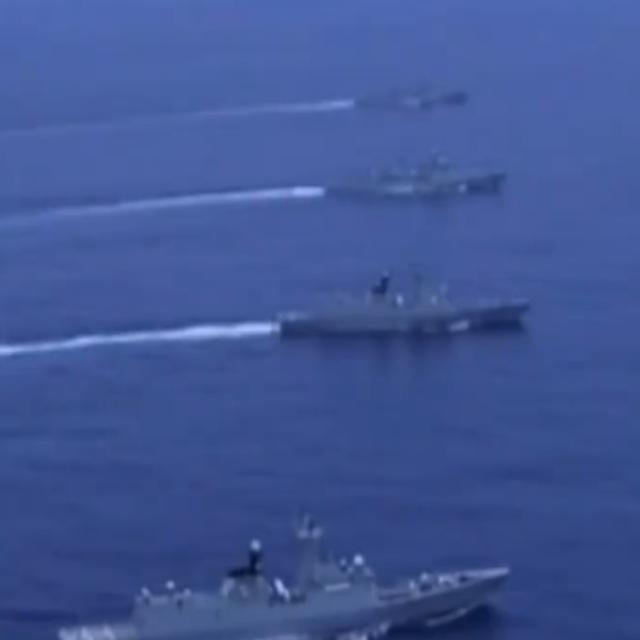navalvessels: (51, 506, 514, 640), (277, 263, 534, 342), (319, 146, 506, 204), (353, 72, 469, 117)
